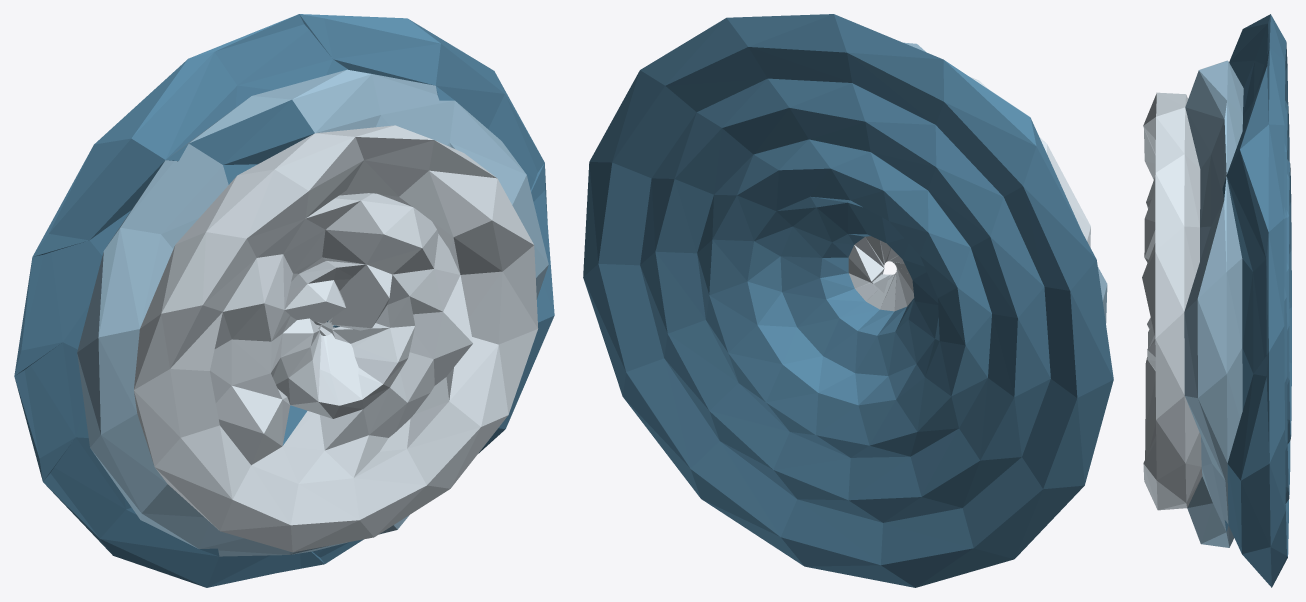
Rendered from star2.obj.
3 views of the same model, side by side, from view 1: azimuth 30°, elevation 25°; view 2: azimuth 150°, elevation 25°; view 3: azimuth 270°, elevation 25° (orthographic). The views are drawn at different scales.
Visible parts, largest first — view 1: 円.002; view 2: 円.002; view 3: 円.002.
Boxes of the visible parts, bbox=[...] form: 円.002: bbox=[14, 14, 554, 587]; 円.002: bbox=[583, 14, 1113, 587]; 円.002: bbox=[1142, 14, 1291, 587].
Size of the model in its own units: 4.35 by 4.35 by 1.14.
Materials: 1 (1 with a texture image).
